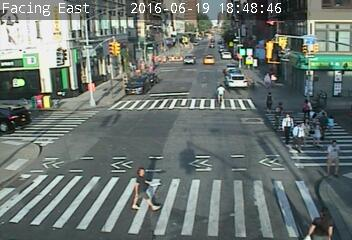neg: (249, 136, 275, 170), (169, 144, 191, 174), (93, 108, 110, 131), (170, 46, 185, 65), (159, 24, 173, 43), (110, 108, 119, 121)
pos: (122, 163, 157, 210), (315, 135, 350, 182), (297, 96, 319, 126), (259, 87, 278, 112)
